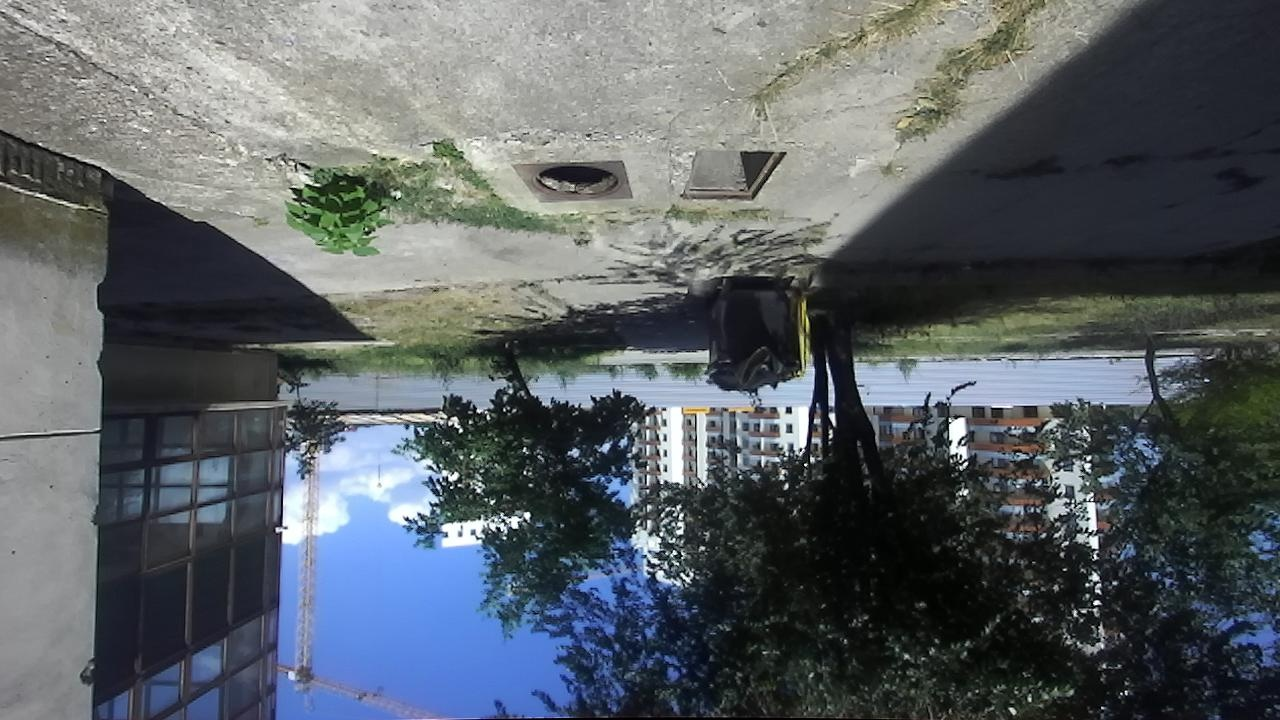drain: (677, 146, 788, 203), (531, 158, 621, 199)
